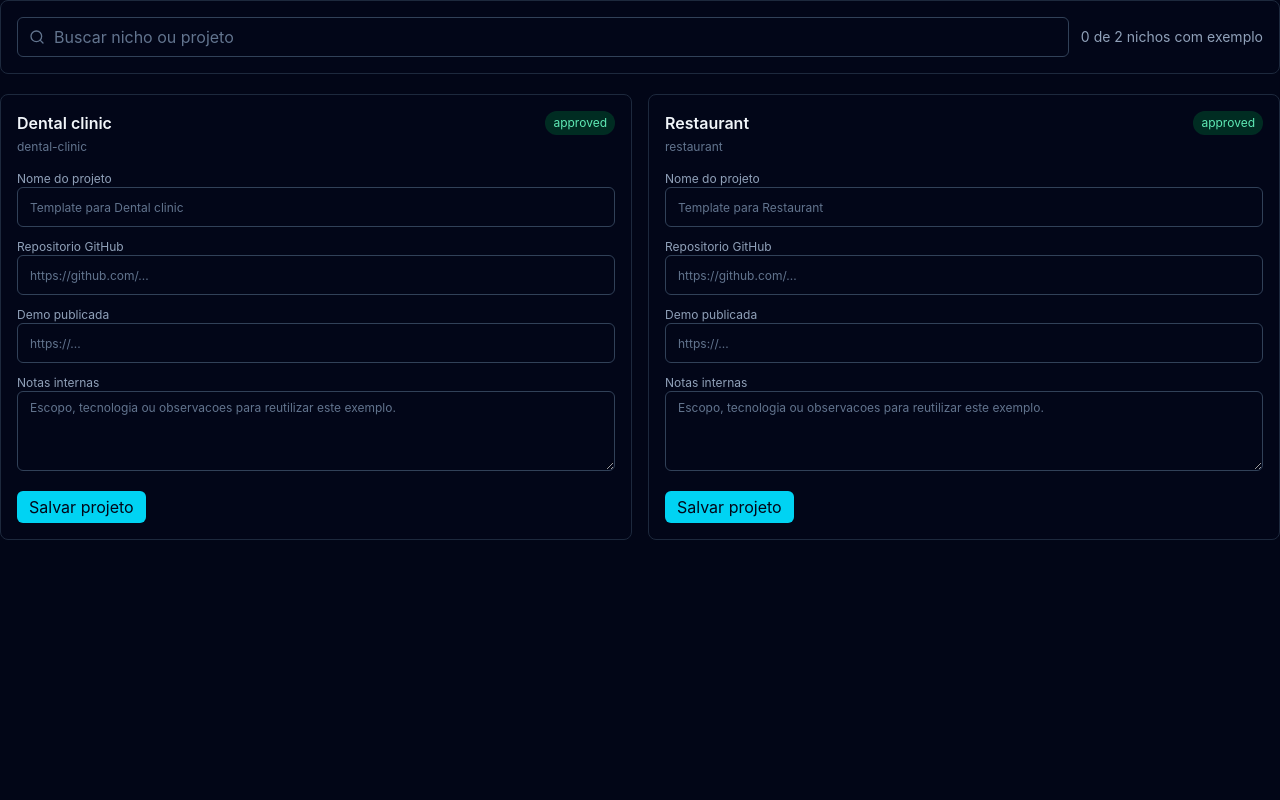
portfolio catalog UI › lists niches, filters them, and saves project links
The image size is (1280, 800).
Expected: the heading "Dental clinic" is shown, [17,111,112,135]
In the field named "Buscar nicho no portfolio": [543, 37] box [17,17,1069,57], type "dental"
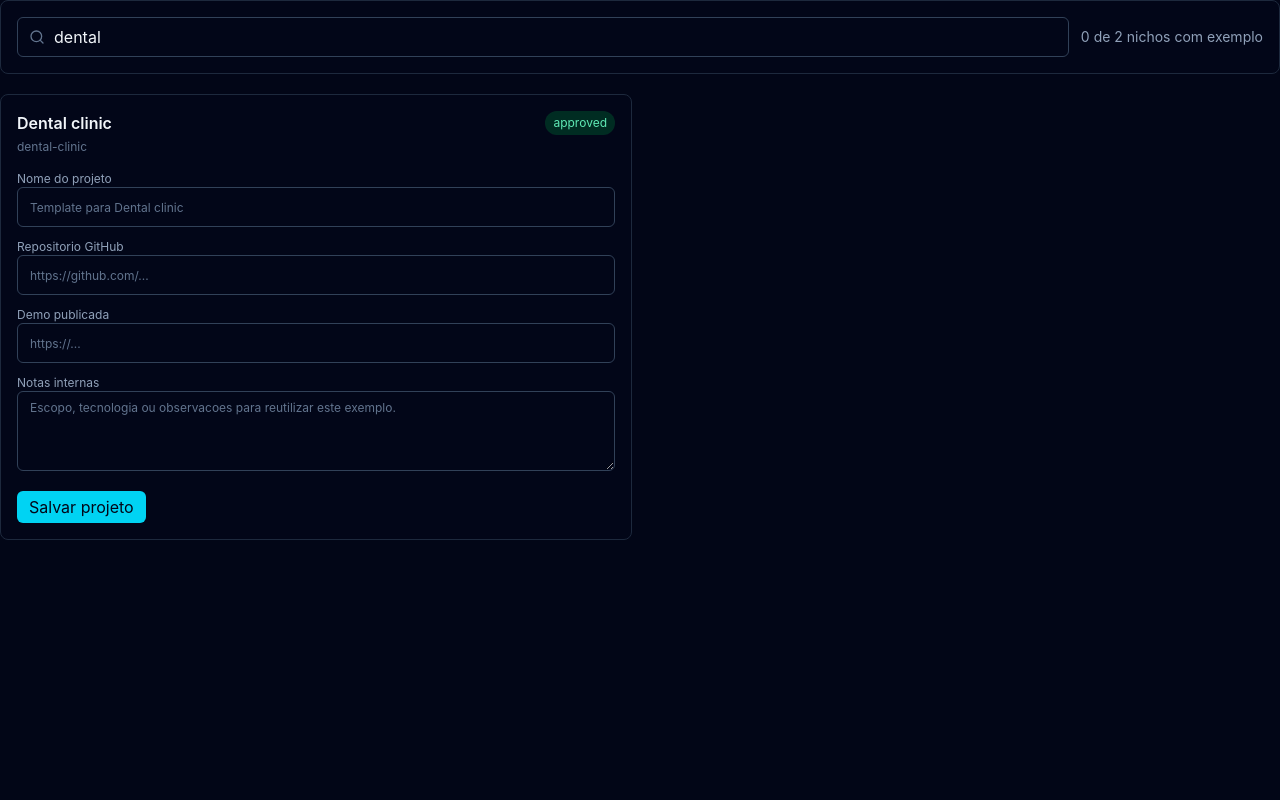
Now the heading "Restaurant" is gone
In the field named "Demo publicada para Dental clinic": [316, 343] box [17,323,615,363], type "https://dental.example.com"
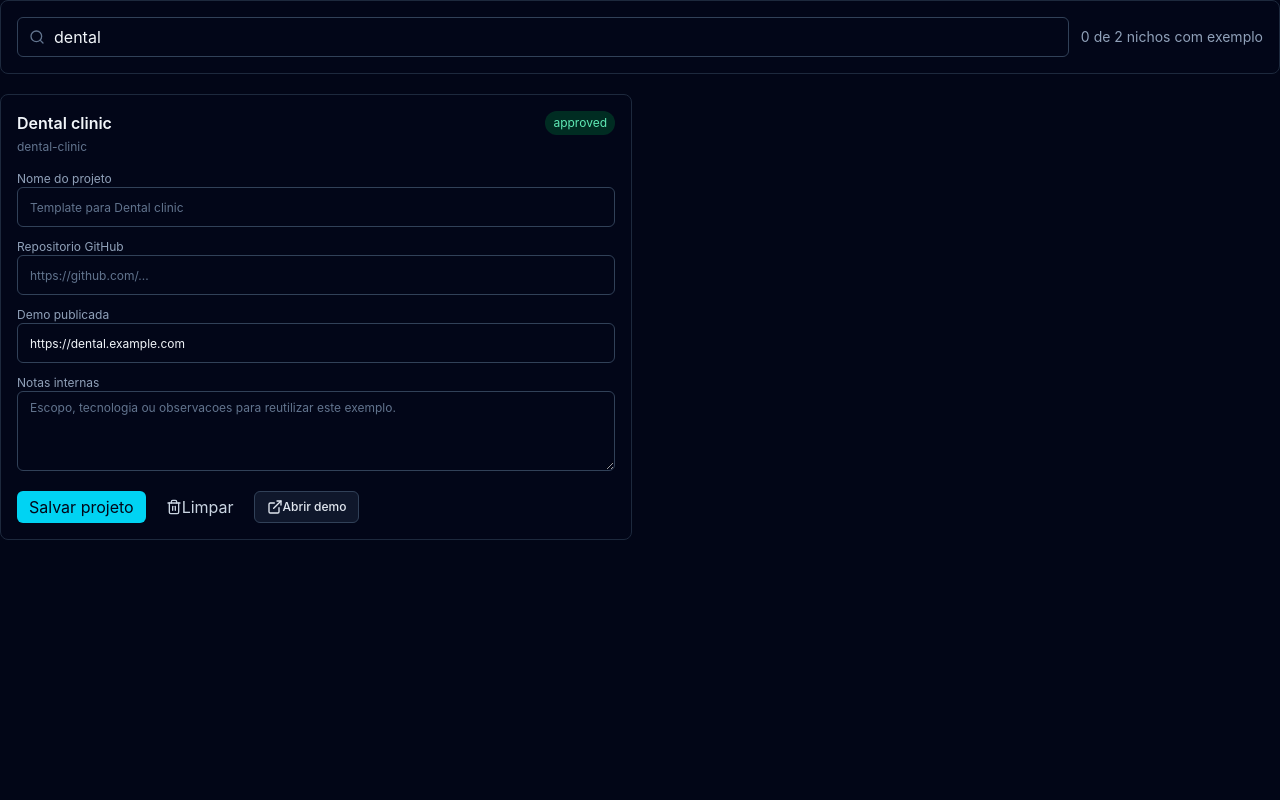
Click the button "Salvar projeto": [81, 507] box [17,491,146,523]
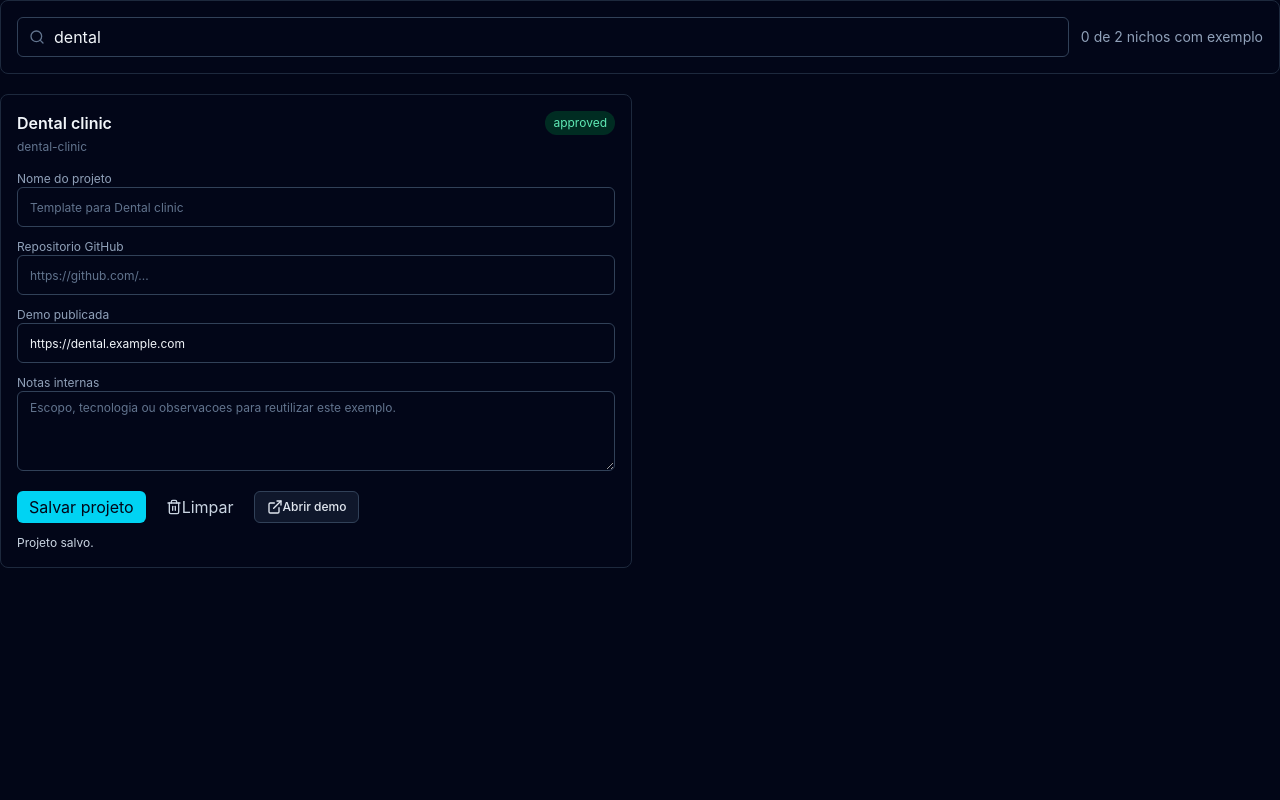
Now the text "Projeto salvo." is shown, box [17,535,94,550]
